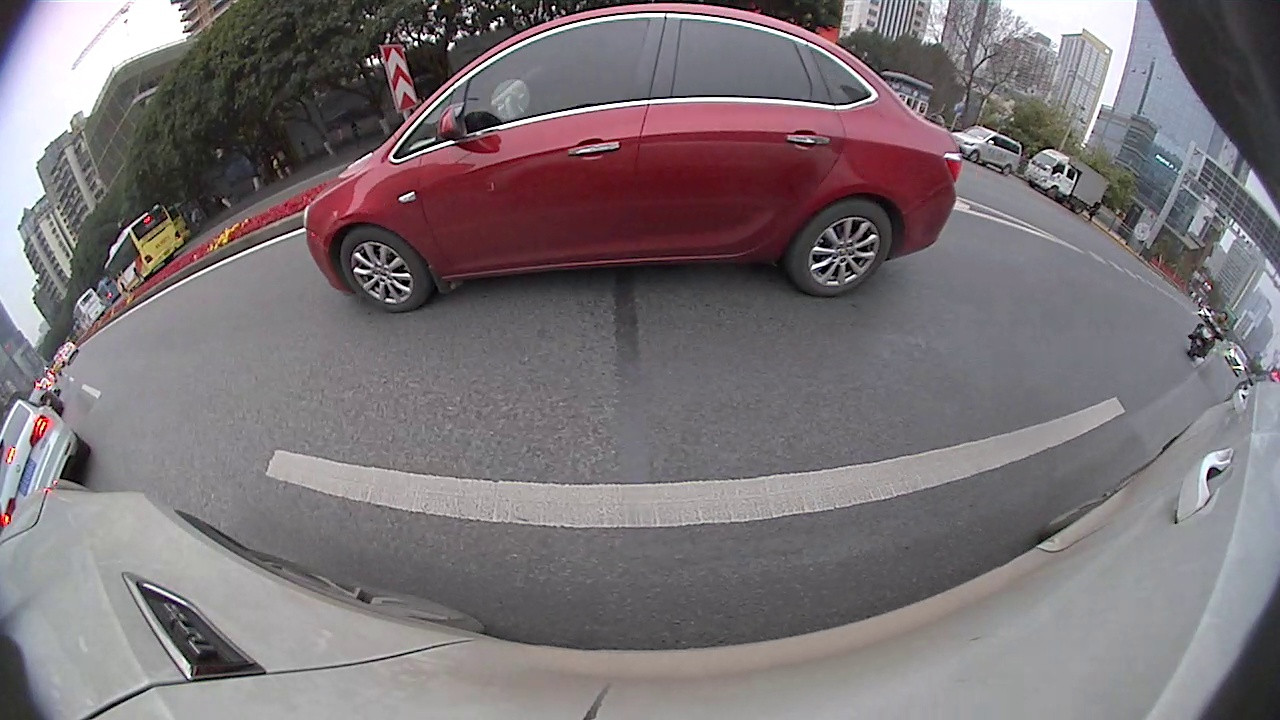bus: (100, 204, 188, 293), (164, 201, 192, 242)
car: (302, 3, 968, 316), (3, 400, 89, 541), (948, 122, 1021, 177)
front: (340, 225, 428, 314)
rear: (792, 198, 894, 299)
rider: (1187, 307, 1227, 363)
truck: (1023, 147, 1110, 214)
